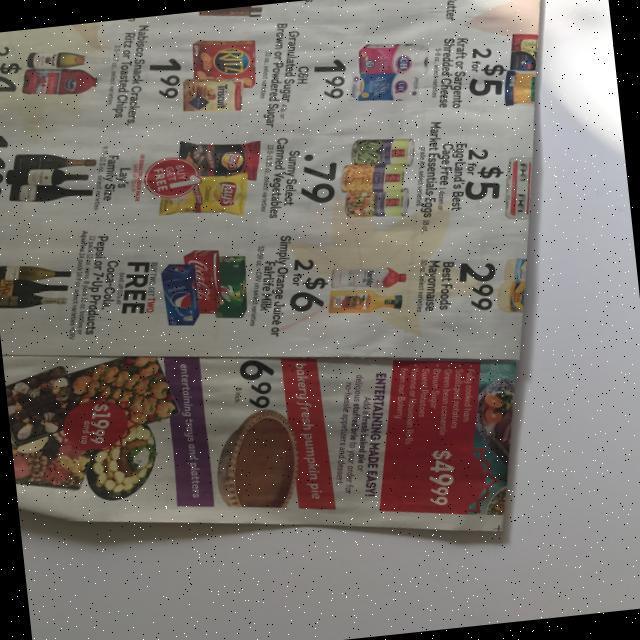paper: (0, 0, 602, 591)
